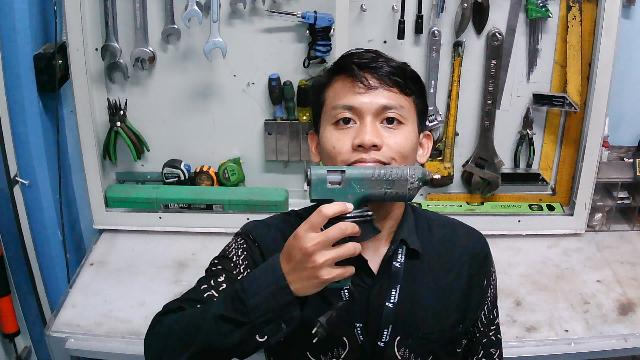gun_lem: (299, 161, 445, 259)
